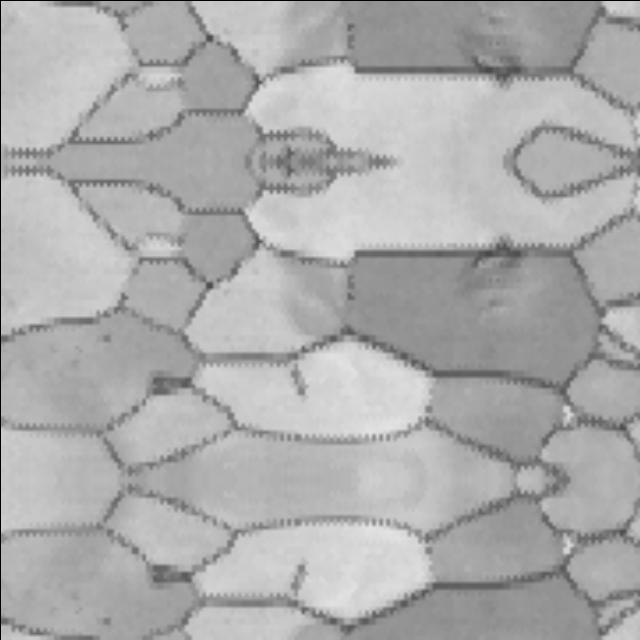good_void: (456, 225, 541, 284), (456, 36, 541, 95), (284, 361, 309, 401), (284, 555, 309, 595), (100, 330, 118, 341), (100, 615, 118, 626)
